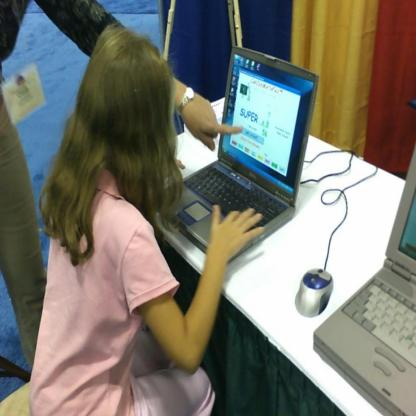board: (159, 45, 318, 267), (314, 147, 416, 415)
